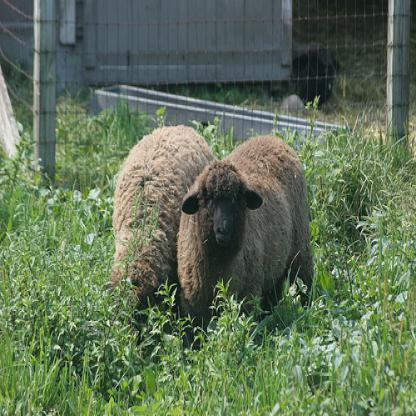sheep: (177, 134, 314, 320), (112, 125, 216, 313)
